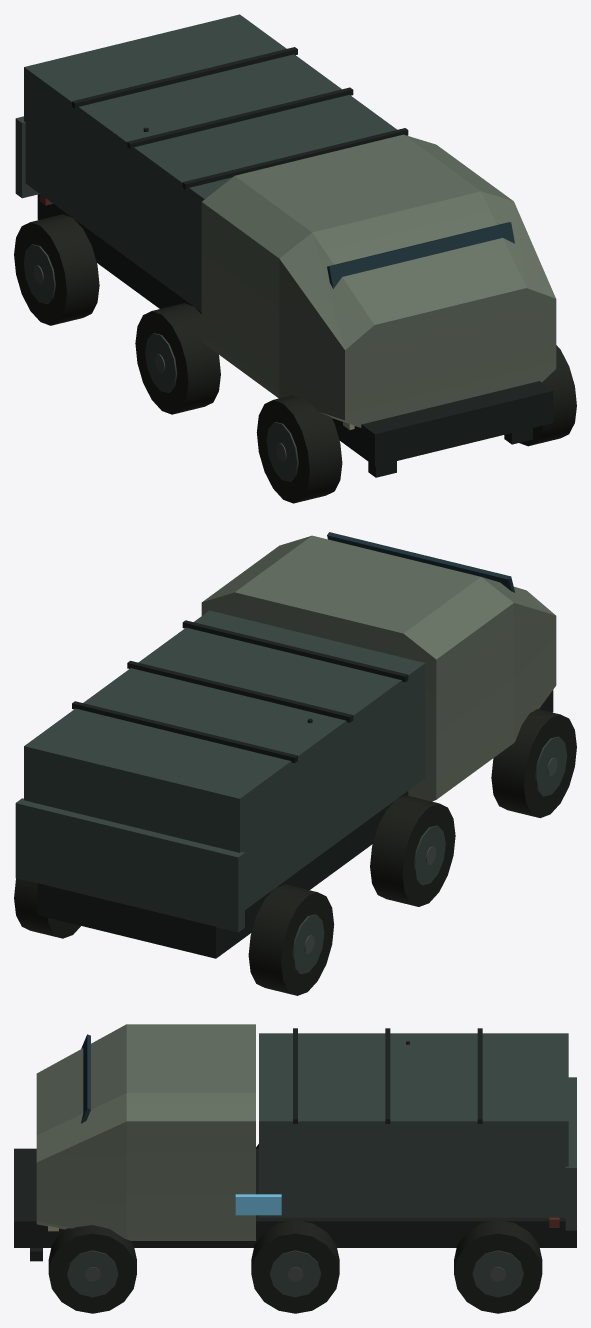
Rendered from logiTruck-lod.glb.
3 renders of one model, top to bottom at view 1: azimuth 30°, elevation 25°; view 2: azimuth 150°, elevation 25°; view 3: azimuth 270°, elevation 25°, orthographic. The views are drawn at different scales.
Visible parts, largest first — view 1: equipment; view 2: equipment; view 3: equipment, marking.
Boxes of the visible parts, box(x1,y1,x2,y2) form: equipment: box(14, 14, 576, 503); equipment: box(14, 532, 576, 995); equipment: box(14, 1024, 576, 1313); marking: box(235, 1194, 281, 1215).
Size of the model in its own units: 2.84 by 2.4 by 6.1.
